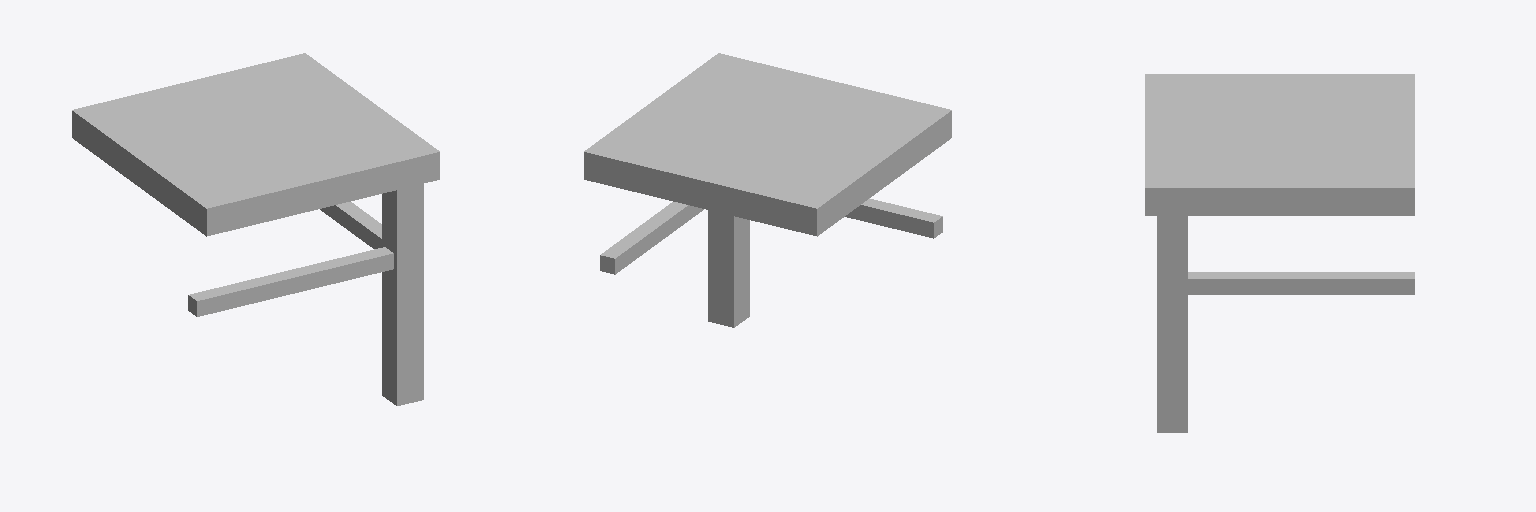
File: multidecor_kitchen_modern_wooden_table_2.obj
3 views of the same model, side by side, from view 1: azimuth 30°, elevation 25°; view 2: azimuth 150°, elevation 25°; view 3: azimuth 270°, elevation 25° (orthographic).
Visible parts, largest first — view 1: Cube; view 2: Cube; view 3: Cube.
Boxes of the visible parts, <box> form: Cube: <box>72,53,439,405</box>; Cube: <box>584,53,951,327</box>; Cube: <box>1145,74,1414,432</box>.
Bounding box in the file's own units: 2.2 × 2.25 × 2.2.